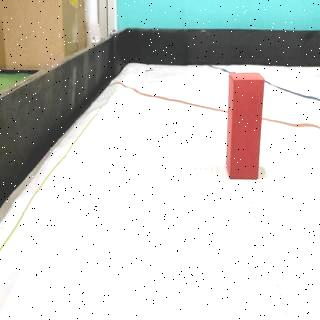redbox: (224, 72, 266, 178)
